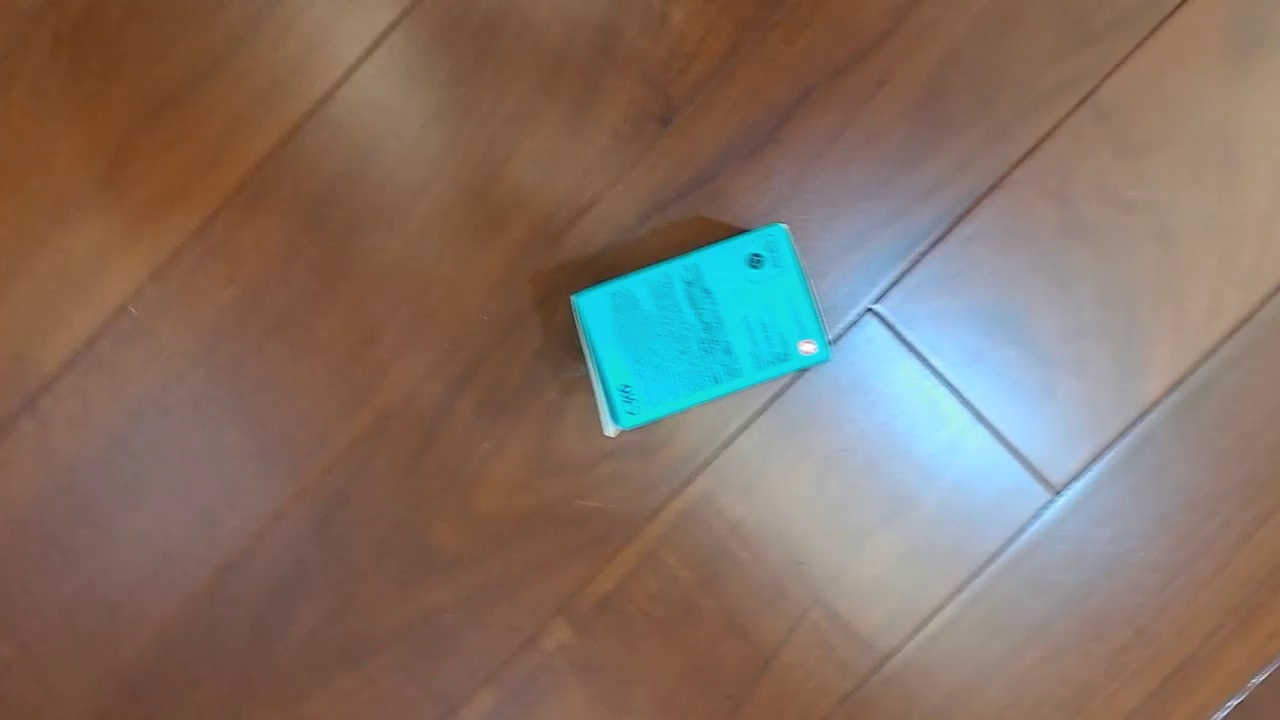webcam: (569, 221, 833, 439)
